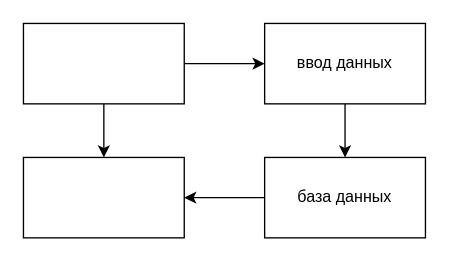
Image size: 449x261. Some labels were removed from this diagram. Each missing label, with the centre of its shape:
меню ввода-вывода данных: (x=103, y=63)
различные форматы вывода данных: (x=103, y=197)
